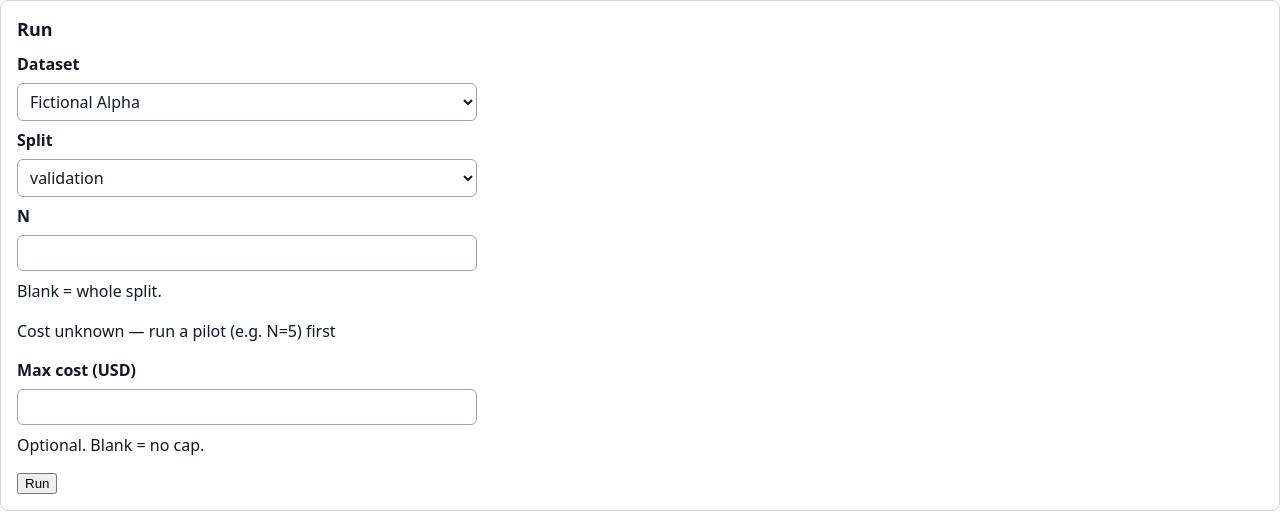
Test case: handles data_missing 409 even when dataset was present
Step 1. Click the button "Run" → (37, 484), box x1=17 y1=473 x2=58 y2=494
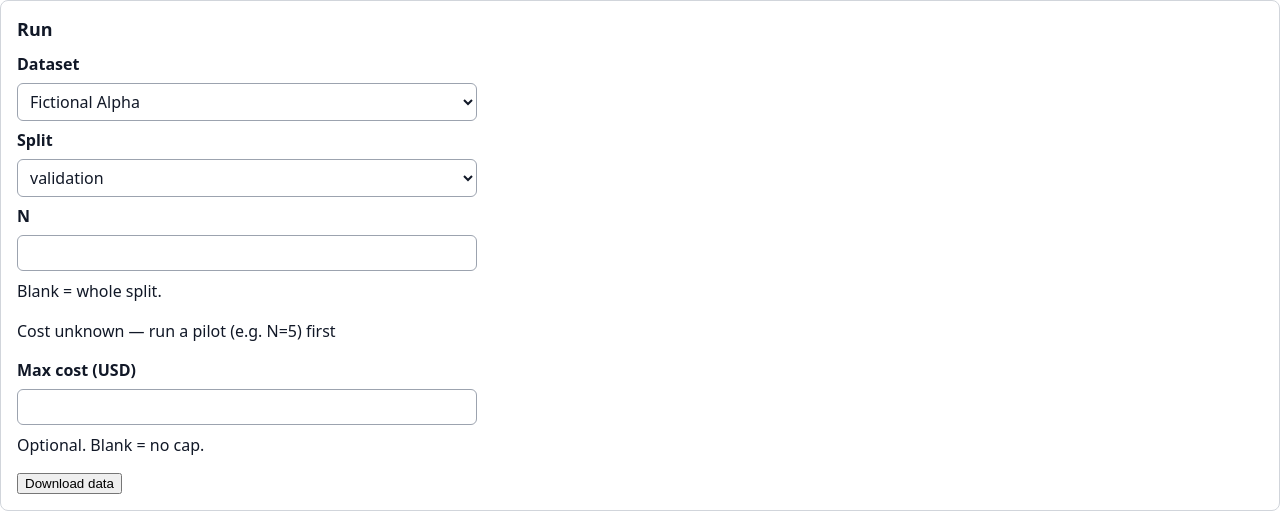
expect the button "Download data" is shown: met, box x1=17 y1=473 x2=122 y2=494
